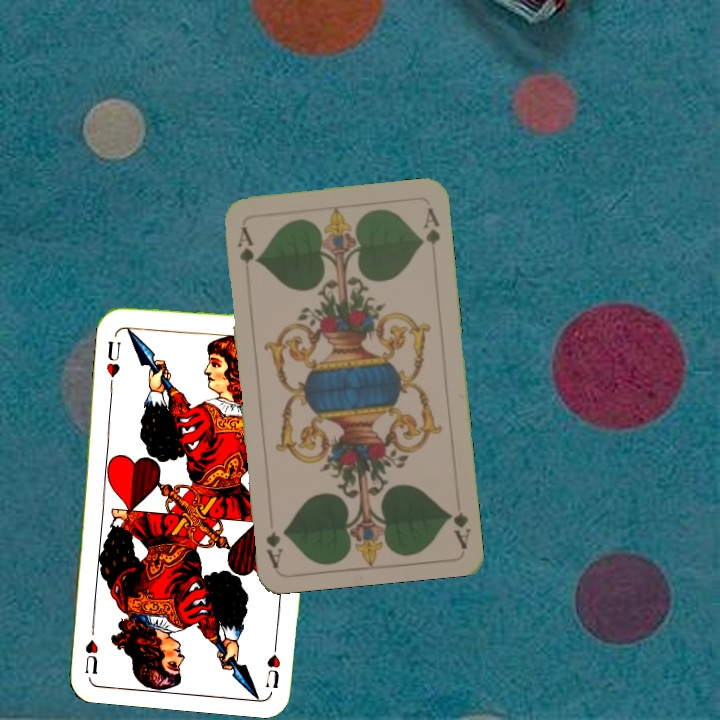GA: (444, 507, 473, 550), (233, 222, 260, 266)
HU: (261, 633, 283, 691), (102, 337, 123, 380)
